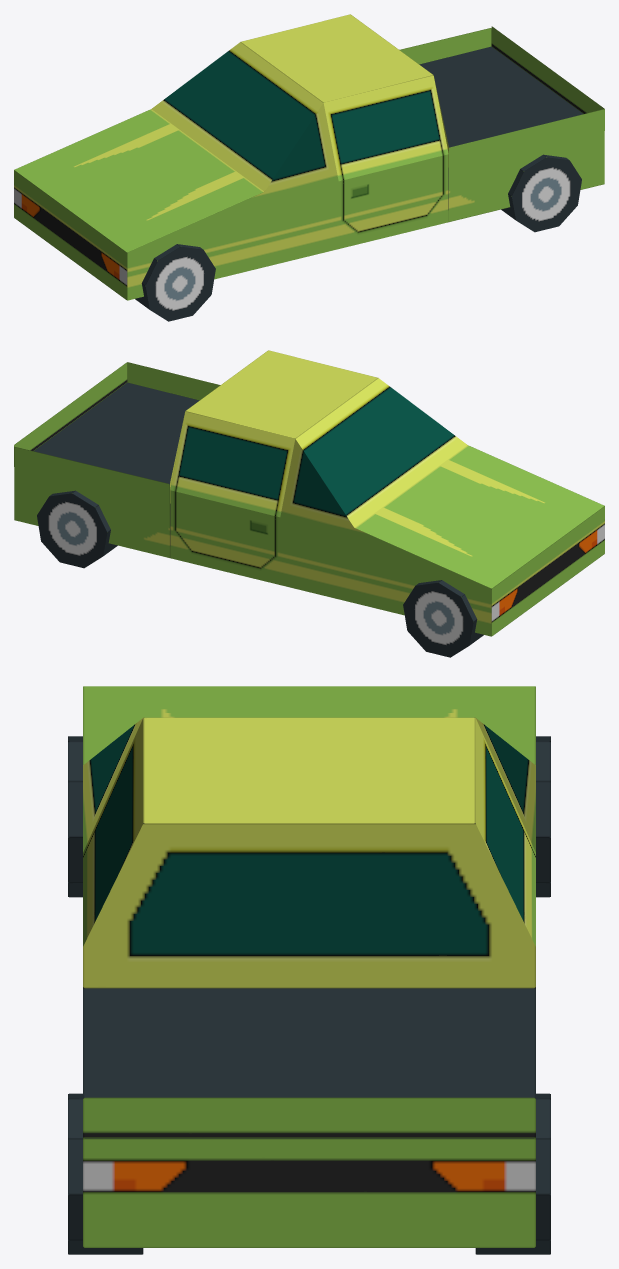
The model's file is coolsmalltruck.fbx.
The picture shows the model from 3 angles, top to bottom: view 1: azimuth 30°, elevation 25°; view 2: azimuth 150°, elevation 25°; view 3: azimuth 270°, elevation 25°; orthographic projection. The views are drawn at different scales.
Visible parts, largest first — view 1: group, cylinder_1, cylinder; view 2: group, cylinder_2, cylinder_3; view 3: group, cylinder_1, cylinder_2, cylinder, cylinder_3.
Boxes of the visible parts, x1,y1,x2,y2 form: group: [14, 14, 604, 300]; cylinder_1: [501, 154, 581, 232]; cylinder: [135, 244, 215, 321]; group: [14, 350, 604, 636]; cylinder_2: [37, 490, 117, 568]; cylinder_3: [403, 580, 483, 657]; group: [83, 686, 535, 1247]; cylinder_1: [68, 1093, 143, 1254]; cylinder_2: [475, 1093, 550, 1254]; cylinder: [68, 736, 82, 897]; cylinder_3: [536, 736, 550, 897].
Bounding box in the file's own units: 457 × 149 × 200.
1 material, 1 textured.
